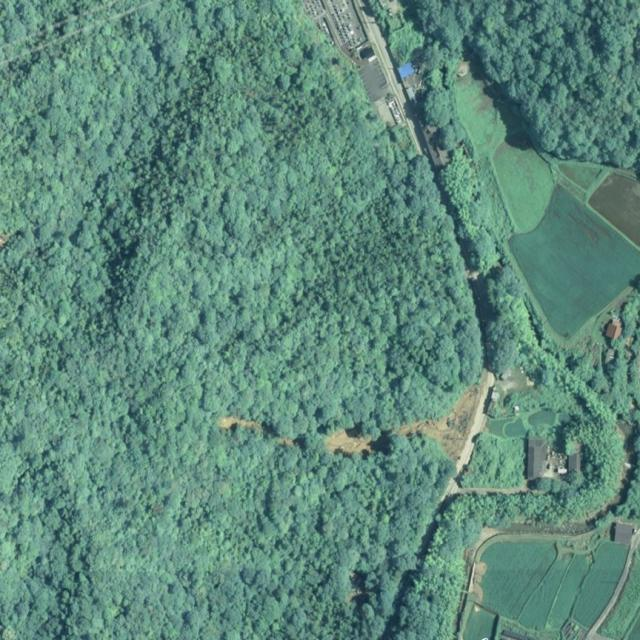landslide: (395, 371, 495, 472), (326, 430, 371, 454)
